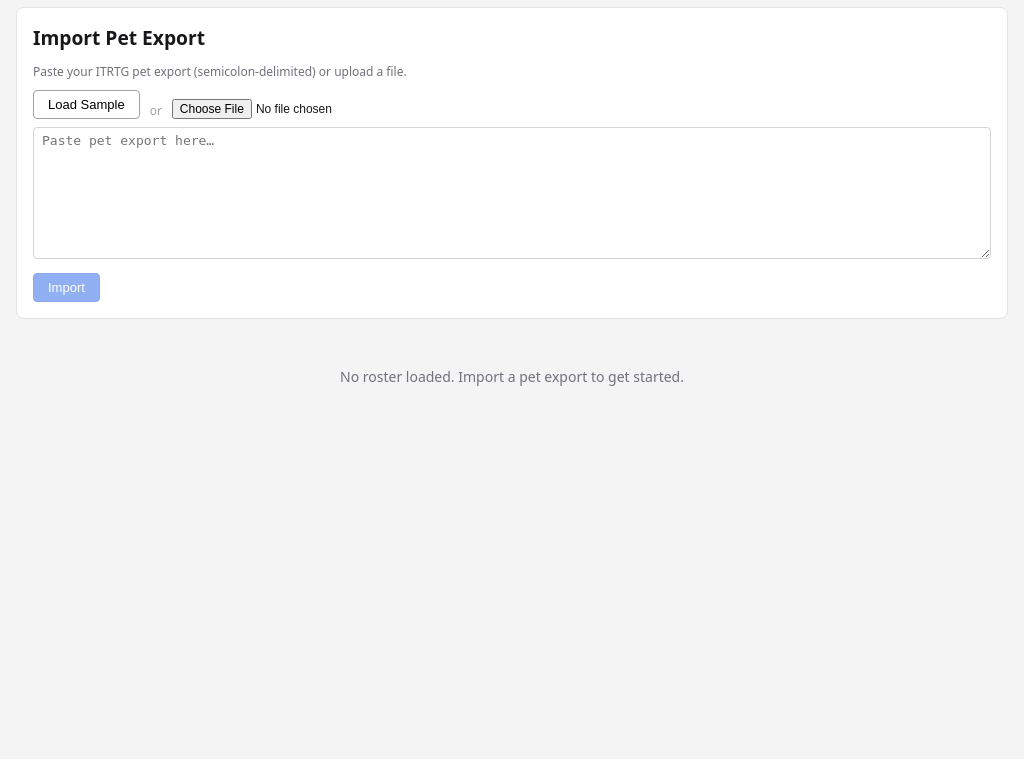
Test case: ImportTab › imports sample export and renders Mouse with observed HP 111557
Note: Set the textarea to the sample export text
Type "Name;Element;Growth;Dungeon Level;Class;Class Level;HP;Attack;Defense;Speed;Water;Fire;Wind;Earth;Dark;Light;Weapon;Armor;Accessory;Action;Unlocked;Improvement;Other;Partner Mouse;Earth;289,900;295;Bl" into the text box with placeholder "Paste pet export here…". click: (512, 193)
box: left=33, top=127, right=991, bottom=259
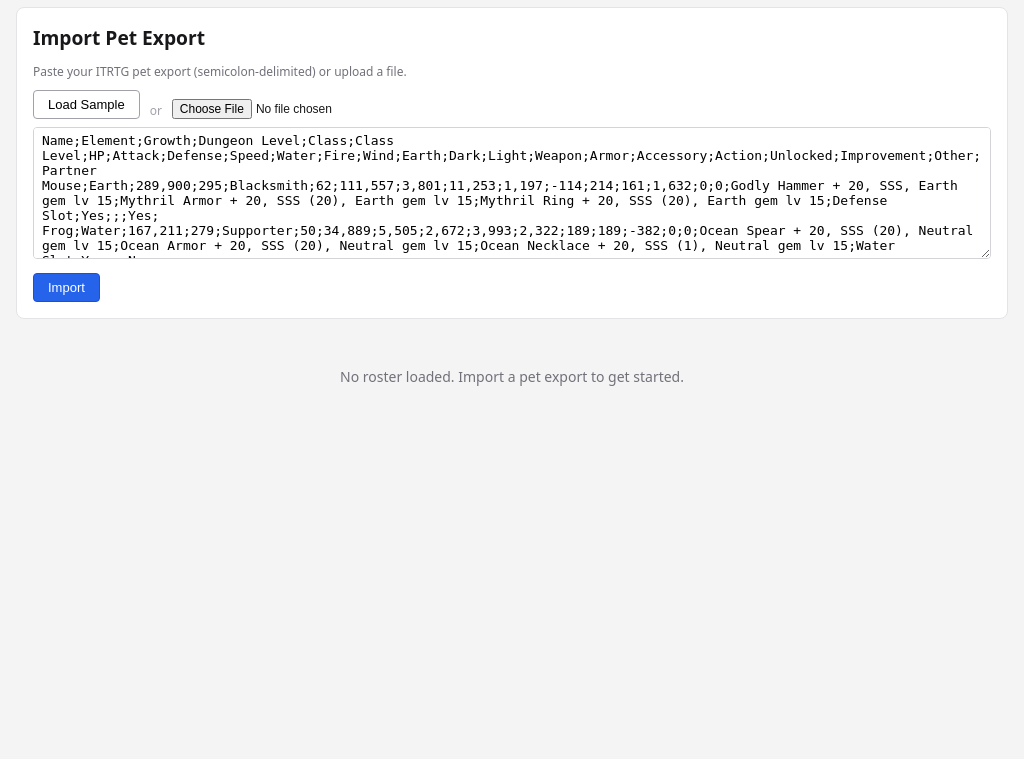
Note: Click Import
Click the button "Import". click: (66, 288)
box: left=33, top=273, right=100, bottom=302
(page scrolled)
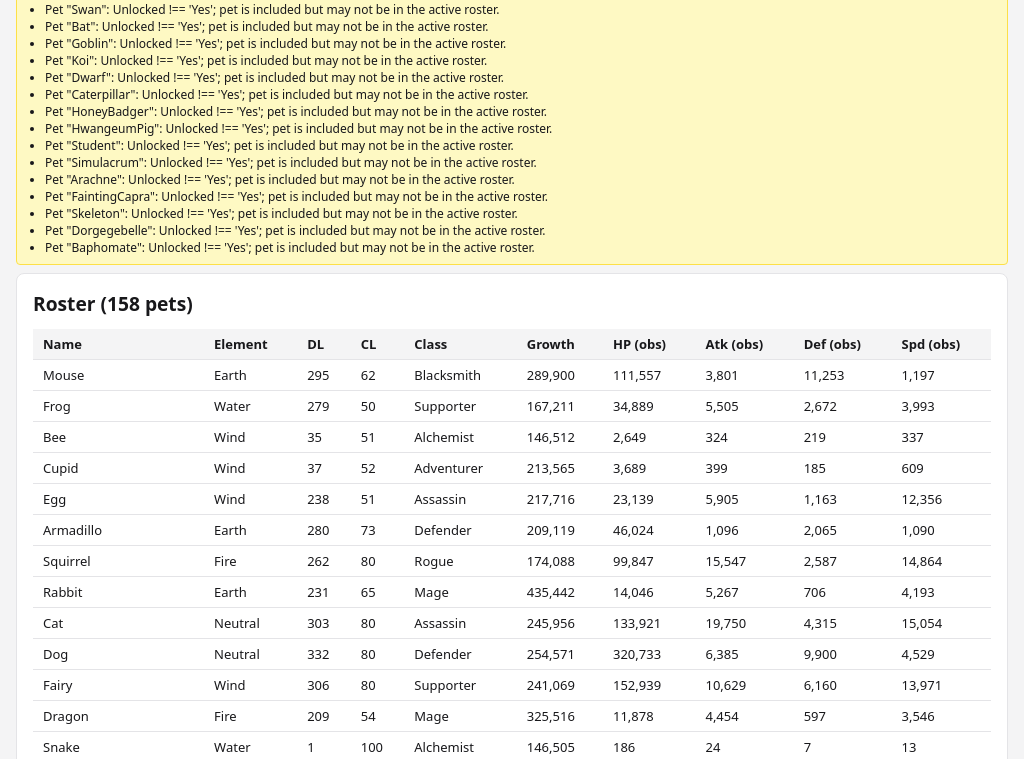
Expected: the text "Mouse" is shown, left=33, top=360, right=204, bottom=390
Expected: the text "111,557" is shown, left=603, top=360, right=696, bottom=390
